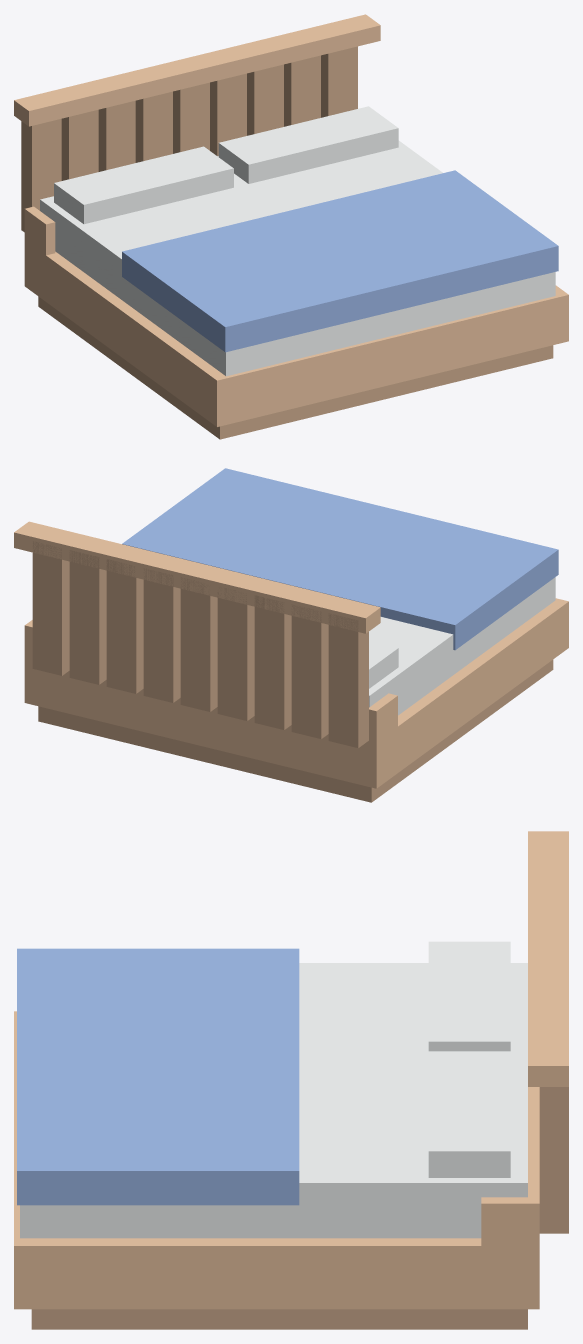
Rendered from bedKingModern.glb.
3 views of the same model, one above another, from view 1: azimuth 30°, elevation 25°; view 2: azimuth 150°, elevation 25°; view 3: azimuth 270°, elevation 25° (orthographic). The views are drawn at different scales.
Parts seen in each view (by area): view 1: bedKingModern; view 2: bedKingModern; view 3: bedKingModern.
Boxes of the visible parts, <box> form: bedKingModern: <box>14,14,568,439</box>; bedKingModern: <box>14,468,568,802</box>; bedKingModern: <box>14,831,568,1329</box>.
Size of the model in its own units: 0.95 by 0.51 by 0.95.
